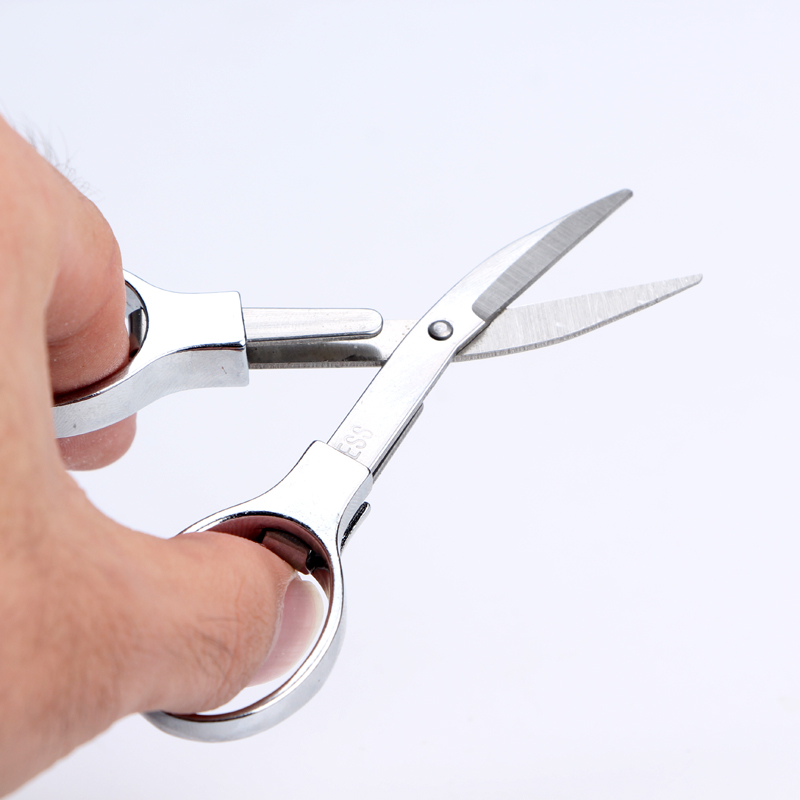scissors: (9, 183, 706, 745)
